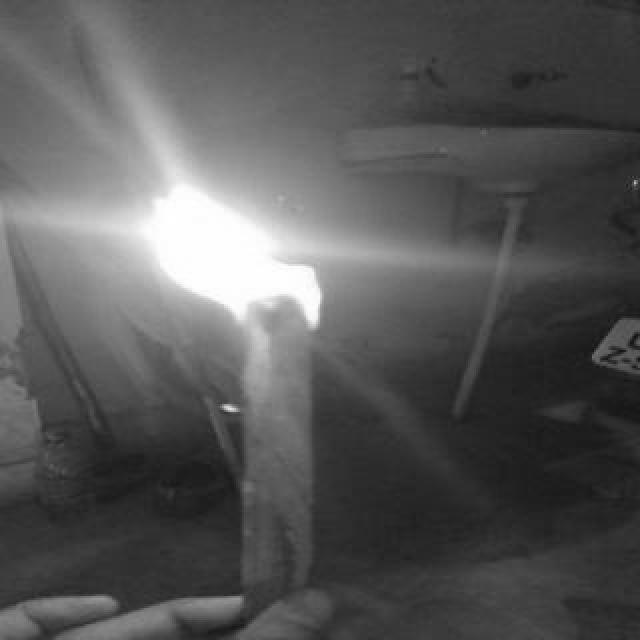fire: (116, 156, 364, 324)
